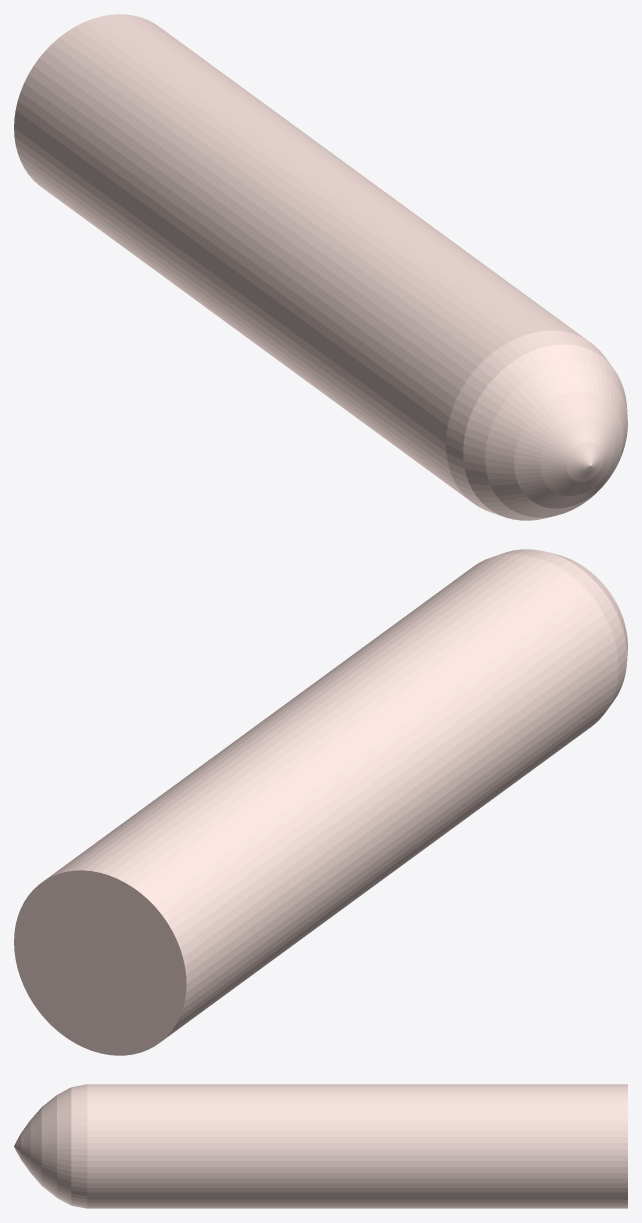
Rendered from Laser.fbx.
The picture shows the model from 3 angles, top to bottom: view 1: azimuth 30°, elevation 25°; view 2: azimuth 150°, elevation 25°; view 3: azimuth 270°, elevation 25°; orthographic projection. The views are drawn at different scales.
Parts seen in each view (by area): view 1: Laser3; view 2: Laser3, Laser2, Laser1, Laser0; view 3: Laser3.
Boxes of the visible parts, x1,y1,x2,y2 form: Laser3: (14, 14, 627, 520); Laser3: (14, 549, 627, 1055); Laser2: (27, 885, 172, 1040); Laser1: (52, 912, 147, 1013); Laser0: (84, 945, 116, 980); Laser3: (14, 1084, 627, 1208).
Size of the model in its own units: 1376 by 1376 by 6779.
